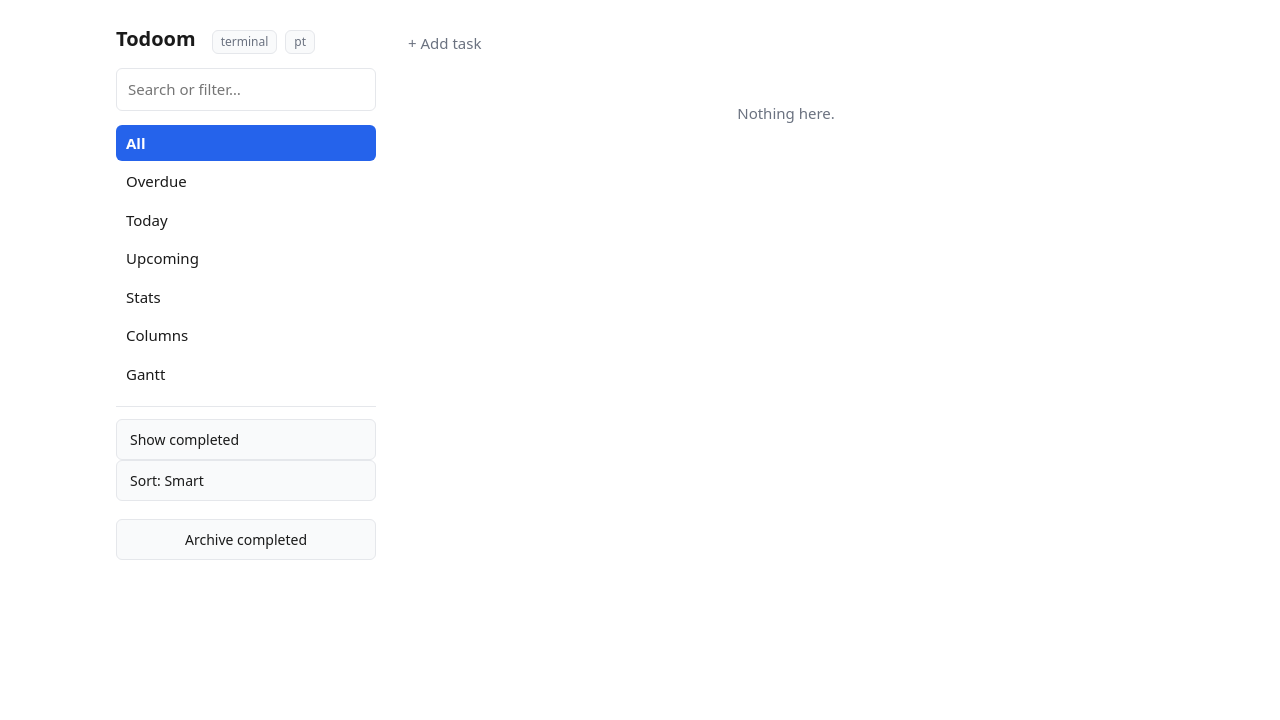
Scenario: App › adds a task from the modal
This screenshot has width=1280, height=720.
Click the button with class "add-task" at (445, 43), box 408,24 -> 1164,62
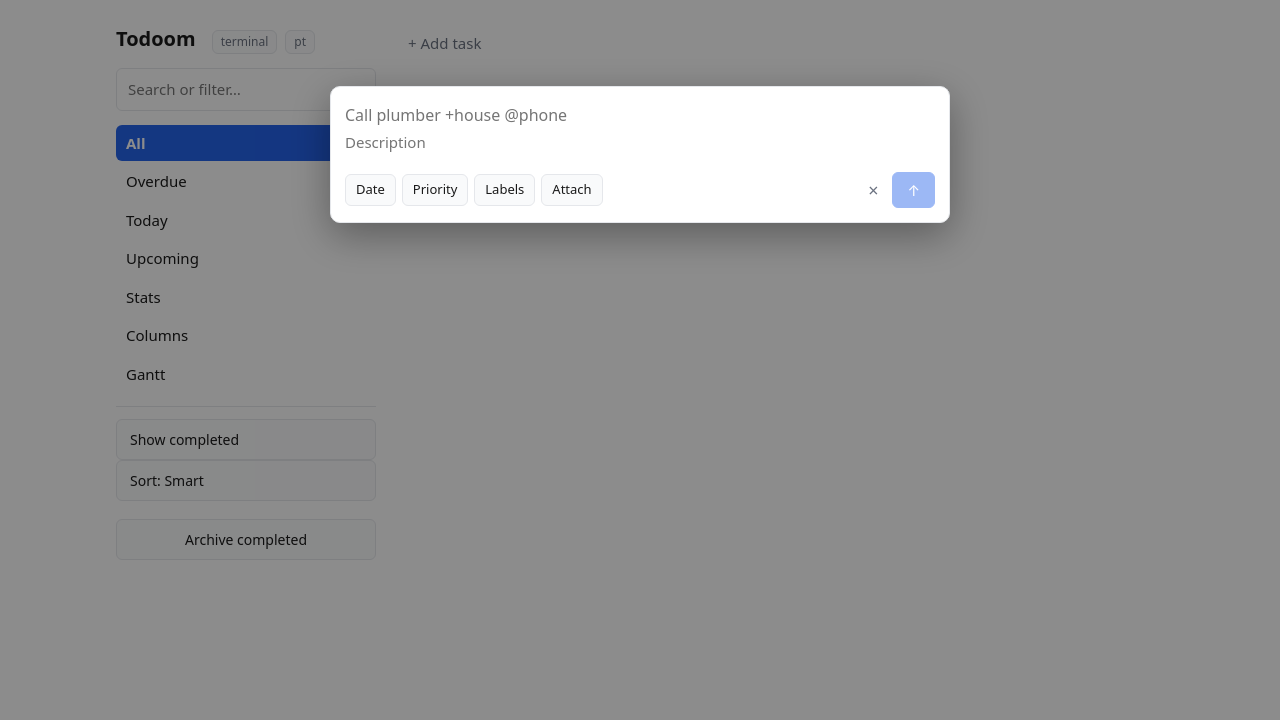
Type "Call plumber" into the field with class "add-input" at (640, 115), box 345,101 -> 935,129
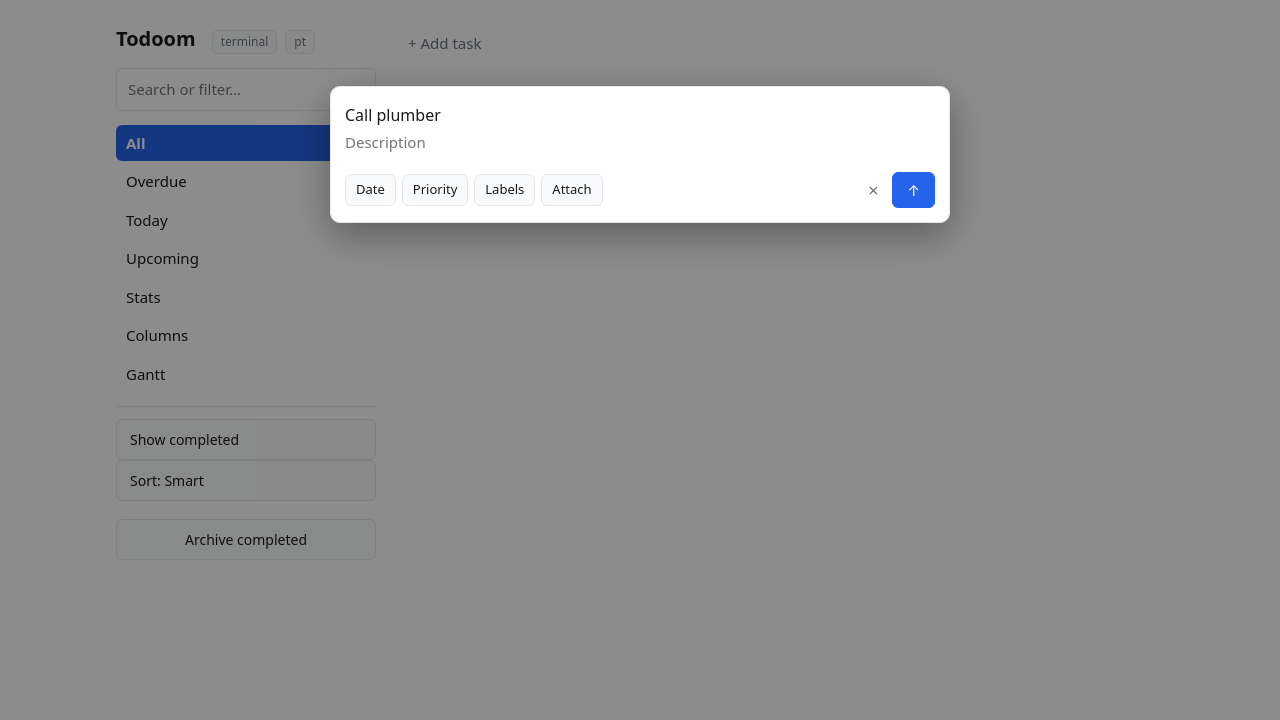
Submit the dialog with class "modal", box 330,86 -> 950,223
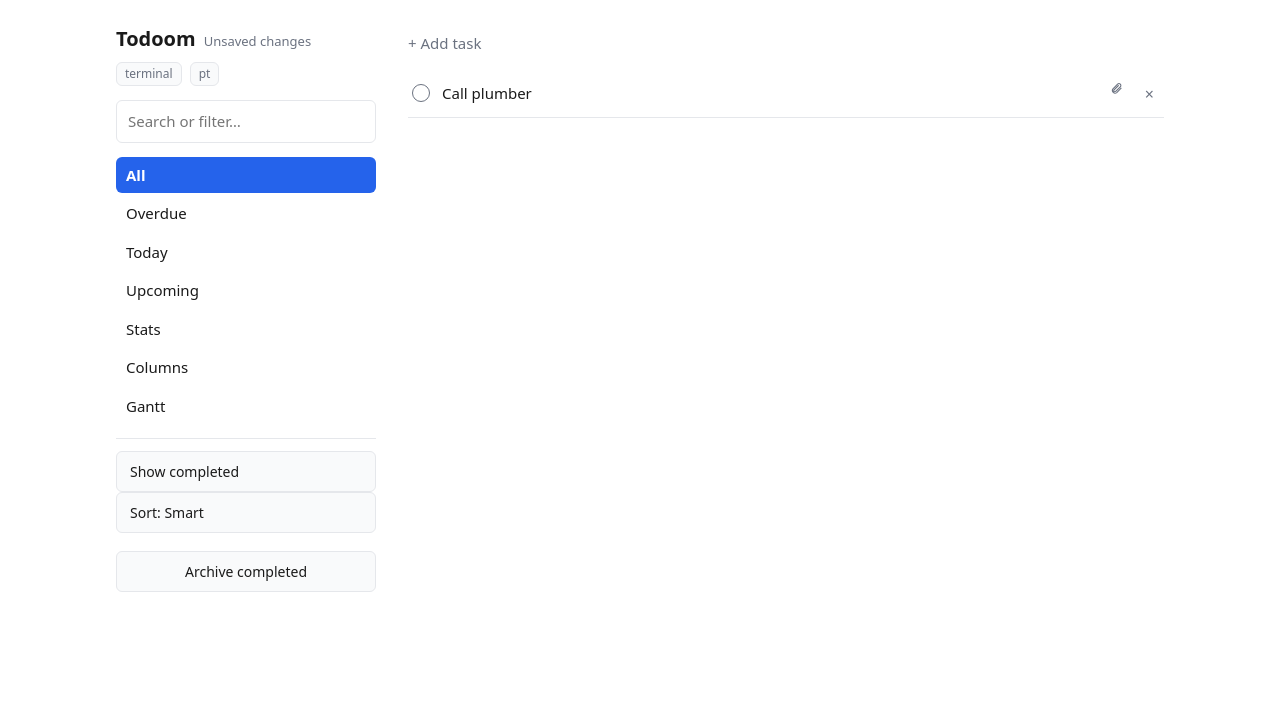
Result: the text "Call plumber" is shown at 442,82 -> 532,102
